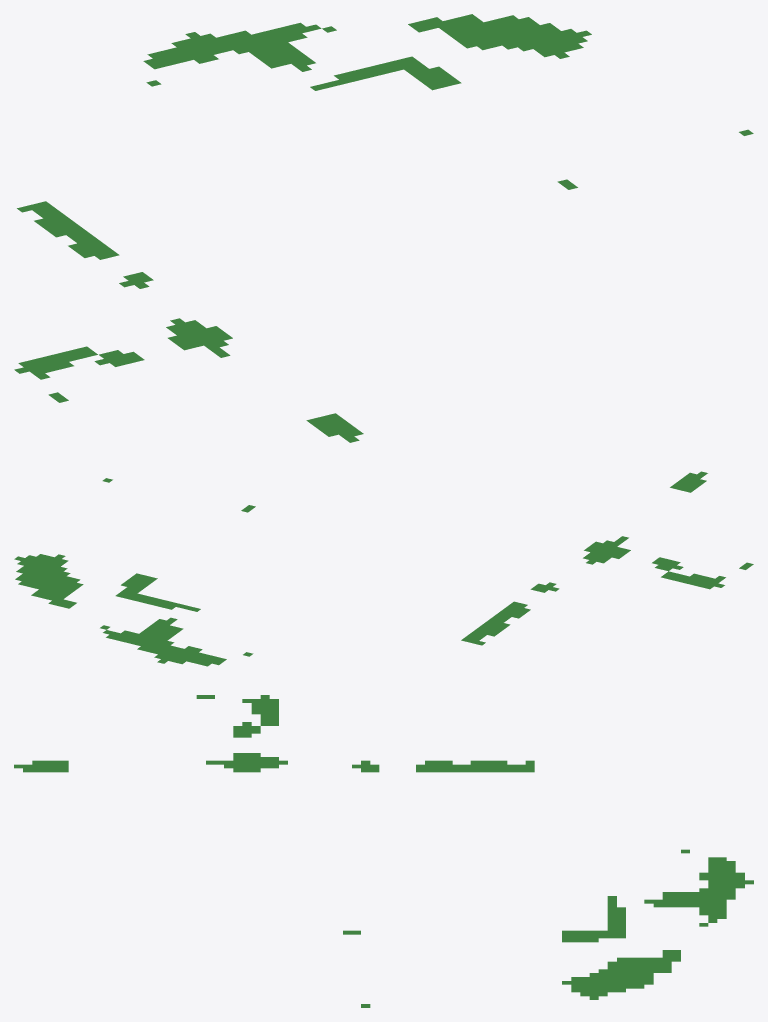
File: Isl-orc3-TreesArea.fbx
3 renders of one model, top to bottom at view 1: azimuth 30°, elevation 25°; view 2: azimuth 150°, elevation 25°; view 3: azimuth 270°, elevation 25°, orthographic. The views are drawn at different scales.
Parts seen in each view (by area): view 1: Isl-orc3-TreesArea; view 2: Isl-orc3-TreesArea; view 3: Isl-orc3-TreesArea.
Part boxes in pixels (x1,y1,x2,y2): Isl-orc3-TreesArea: (14,14,753,442); Isl-orc3-TreesArea: (14,471,753,666); Isl-orc3-TreesArea: (14,695,753,1007).
Bounding box in the file's own units: 81 × 0 × 81.
